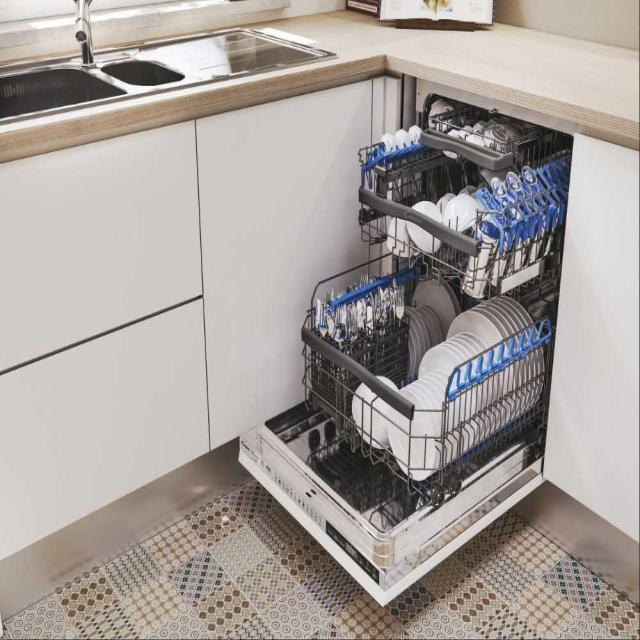dishwasher: (235, 79, 569, 606)
